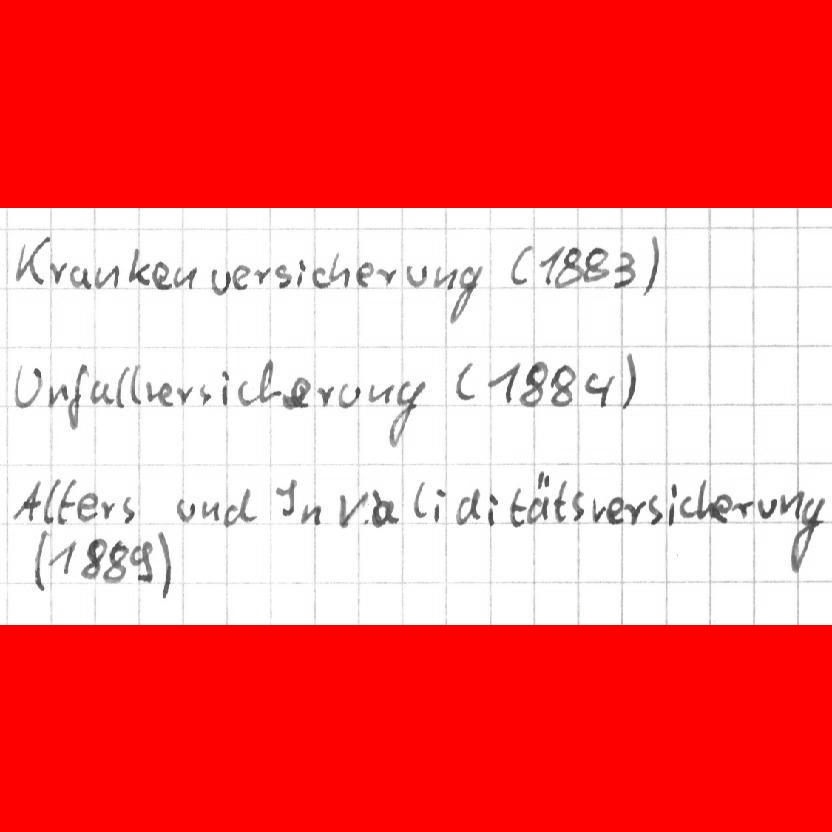Char: (788, 496, 826, 574), (387, 378, 426, 447), (449, 264, 485, 325), (14, 232, 51, 286), (222, 484, 260, 528), (257, 357, 289, 408), (66, 361, 89, 431), (11, 361, 44, 409), (486, 359, 520, 405), (506, 236, 533, 291), (583, 366, 616, 410), (525, 468, 550, 525), (520, 359, 549, 408), (11, 478, 43, 522), (640, 233, 661, 299), (554, 244, 583, 291), (126, 538, 155, 585), (548, 362, 577, 408), (370, 487, 400, 529), (29, 528, 48, 594), (619, 349, 638, 412), (81, 534, 107, 579), (102, 538, 128, 583), (156, 527, 172, 600), (48, 536, 76, 577), (338, 490, 369, 527), (538, 245, 563, 290), (453, 485, 480, 526), (451, 359, 478, 399), (612, 248, 638, 289), (583, 244, 608, 285), (56, 476, 76, 527), (125, 245, 150, 285), (273, 477, 297, 517), (328, 249, 351, 289), (41, 477, 60, 525), (551, 478, 569, 526), (696, 477, 714, 525), (87, 378, 116, 407), (506, 486, 526, 527), (287, 375, 311, 409), (335, 380, 363, 409), (93, 262, 121, 290), (778, 488, 802, 520), (172, 264, 199, 292), (411, 477, 429, 519), (365, 380, 394, 406), (711, 491, 733, 524), (622, 499, 647, 528), (114, 365, 130, 410), (75, 491, 99, 521), (234, 376, 257, 407), (151, 259, 172, 292), (208, 267, 231, 297), (67, 262, 92, 289), (173, 498, 198, 525), (405, 262, 429, 290), (605, 494, 625, 527), (432, 264, 458, 289), (432, 486, 449, 523), (272, 262, 294, 290), (47, 380, 69, 408), (354, 259, 374, 289), (231, 263, 251, 292), (316, 381, 336, 410), (569, 488, 585, 524), (298, 502, 321, 527), (486, 491, 502, 526), (375, 266, 398, 290), (731, 497, 755, 520), (48, 259, 69, 285), (129, 363, 142, 405), (757, 494, 778, 520), (121, 493, 138, 525), (647, 492, 663, 526), (219, 367, 232, 408), (156, 379, 175, 407), (667, 481, 678, 528), (590, 493, 606, 525), (678, 494, 696, 521), (200, 498, 220, 522), (310, 265, 329, 290), (252, 265, 273, 287), (175, 381, 194, 405), (198, 380, 213, 408), (99, 498, 118, 520), (295, 258, 308, 289), (144, 377, 157, 403)
